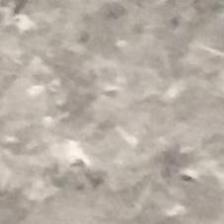Non_Crack: (12, 25, 224, 223)
